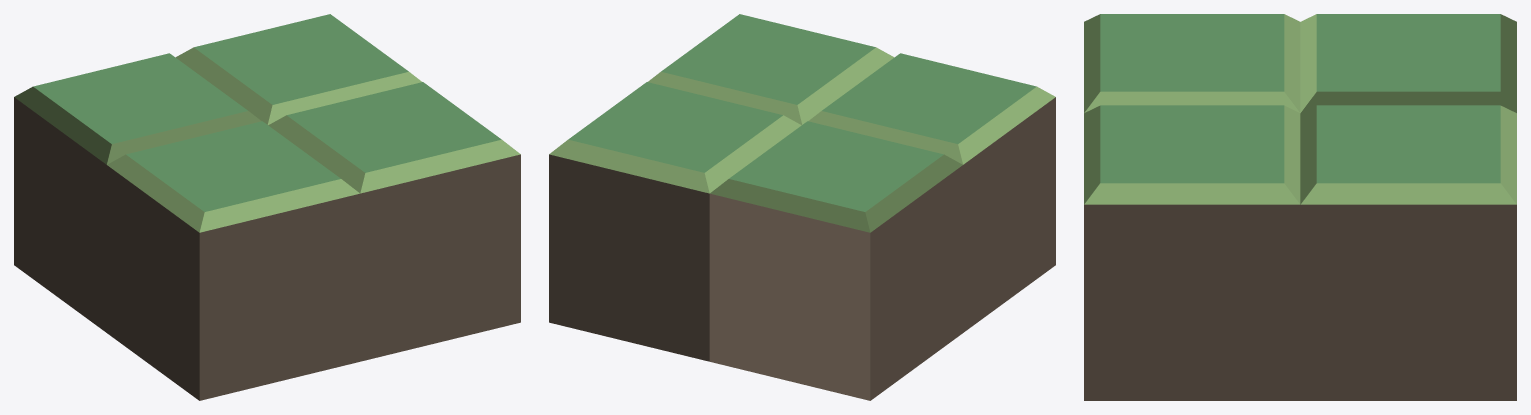
Rendered from Cliff_Fill_Tile.013.obj.
3 renders of one model, left to right at view 1: azimuth 30°, elevation 25°; view 2: azimuth 150°, elevation 25°; view 3: azimuth 270°, elevation 25°, orthographic. The views are drawn at different scales.
Visible parts, largest first — view 1: Cliff_Fill_Tile.013; view 2: Cliff_Fill_Tile.013; view 3: Cliff_Fill_Tile.013.
Boxes of the visible parts, x1,y1,x2,y2 form: Cliff_Fill_Tile.013: (14,14,520,400); Cliff_Fill_Tile.013: (549,14,1055,400); Cliff_Fill_Tile.013: (1084,14,1516,400).
Size of the model in its own units: 2 by 1.08 by 2.
